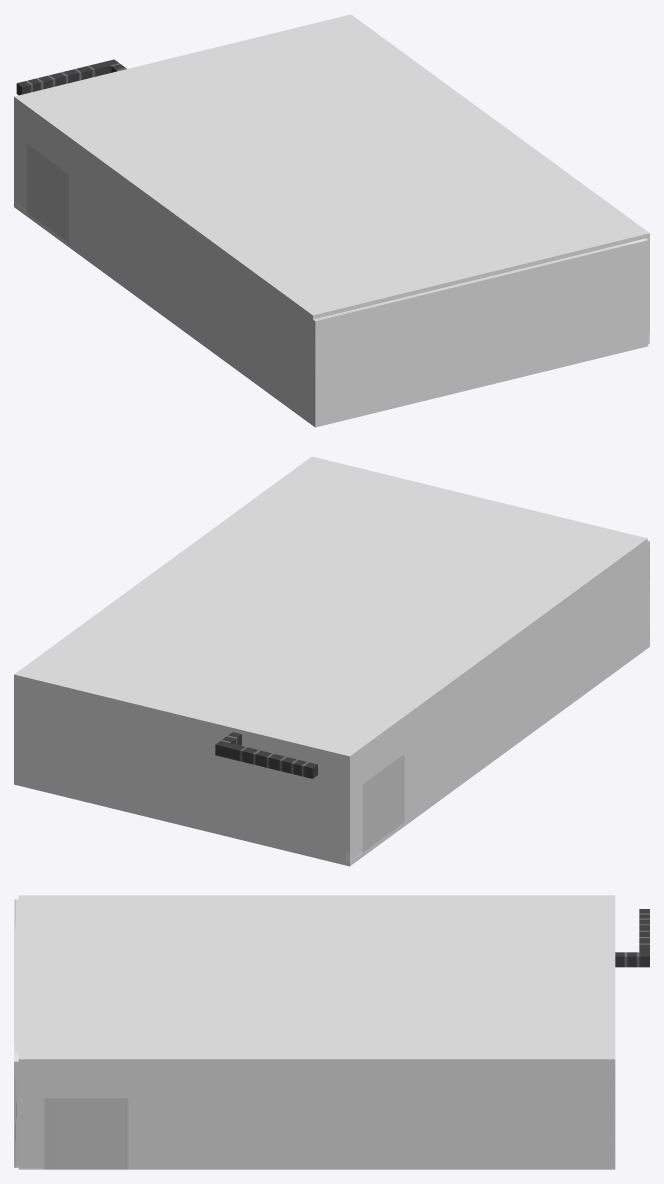
3 renders of one model, top to bottom at view 1: azimuth 30°, elevation 25°; view 2: azimuth 150°, elevation 25°; view 3: azimuth 270°, elevation 25°, orthographic.
Parts seen in each view (by area): view 1: Floor.001, Wall.001, Wall, Floor, Tube.014; view 2: Floor.001, Wall.003, Wall, Floor, Tube.014; view 3: Floor.001, Wall.002, Wall.001, Tube.013, Tube.014.
Boxes of the visible parts, bbox=[...] form: Floor.001: bbox=[14, 14, 649, 319]; Wall.001: bbox=[313, 238, 648, 427]; Wall: bbox=[14, 101, 312, 421]; Floor: bbox=[14, 203, 312, 425]; Tube.014: bbox=[16, 61, 110, 95]; Floor.001: bbox=[14, 456, 647, 760]; Wall.003: bbox=[14, 678, 345, 861]; Wall: bbox=[346, 543, 647, 862]; Floor: bbox=[18, 644, 647, 866]; Tube.014: bbox=[224, 743, 317, 778]; Floor.001: bbox=[18, 895, 615, 1063]; Wall.002: bbox=[18, 1063, 615, 1169]; Wall.001: bbox=[14, 899, 18, 1167]; Tube.013: bbox=[615, 952, 649, 967]; Tube.014: bbox=[639, 909, 649, 952].
Bounding box in the file's own units: 50.78 × 15.9 × 83.14.
7 materials, 7 textured.
